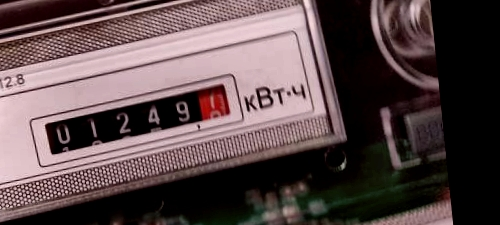0: (50, 117, 72, 145)
1: (82, 113, 99, 139)
2: (111, 107, 134, 135)
4: (143, 98, 163, 127)
7: (202, 85, 219, 110)
9: (171, 95, 192, 122)
screen: (20, 73, 259, 171)
